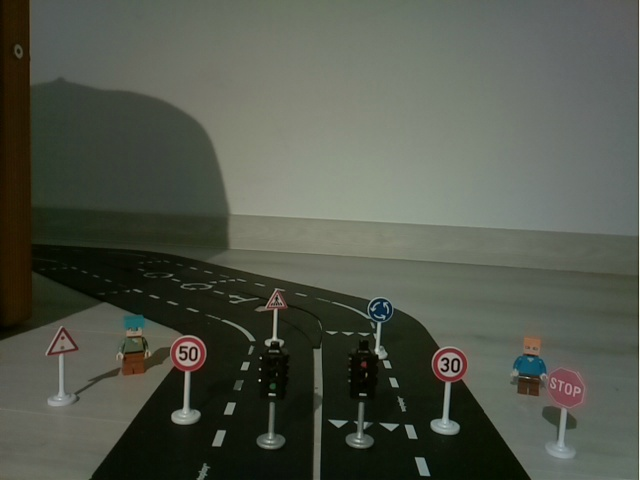green light: (258, 347, 293, 453)
limit 30: (427, 346, 470, 438)
limit 50: (162, 332, 211, 432)
pedestrian sign: (261, 287, 291, 341)
person: (507, 334, 547, 399)
red light: (346, 346, 380, 450)
round: (364, 294, 398, 337)
second person: (113, 312, 153, 380)
stop: (549, 366, 587, 464)
traffic light sign: (40, 324, 85, 410)
